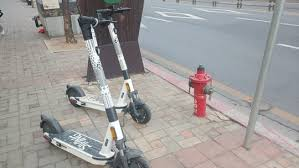kick_body: (59, 133, 108, 162), (84, 92, 121, 111)
kick_handler: (97, 5, 132, 20)
kick_wheel: (40, 115, 59, 144), (130, 101, 150, 122), (65, 85, 84, 106)
